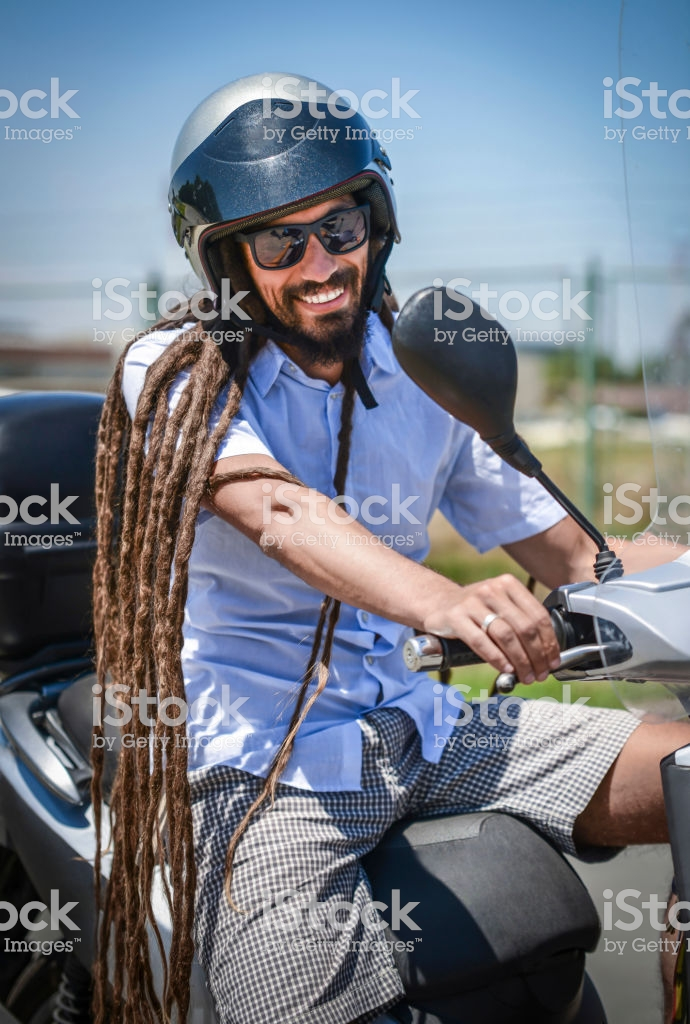helmet: (150, 51, 414, 268)
